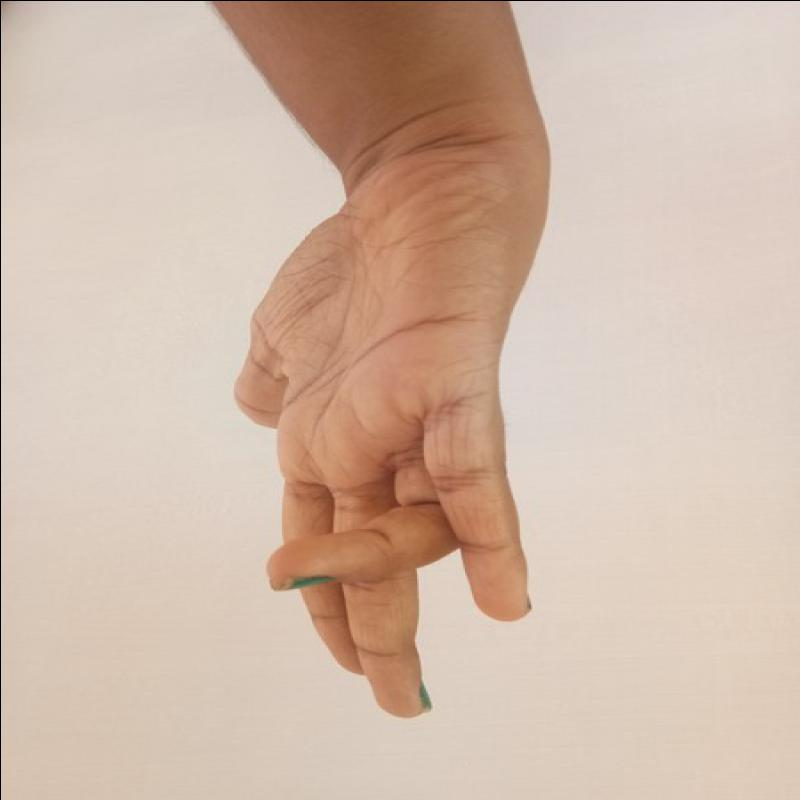Pathaaka: (214, 170, 548, 729)
